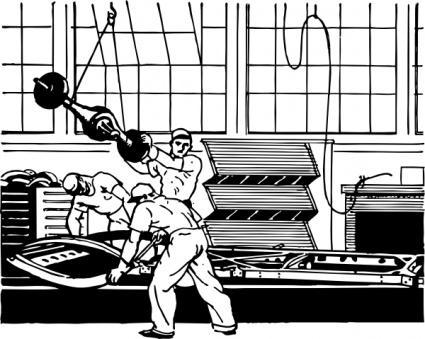person: (105, 183, 239, 337), (58, 170, 157, 262), (119, 125, 203, 211)
